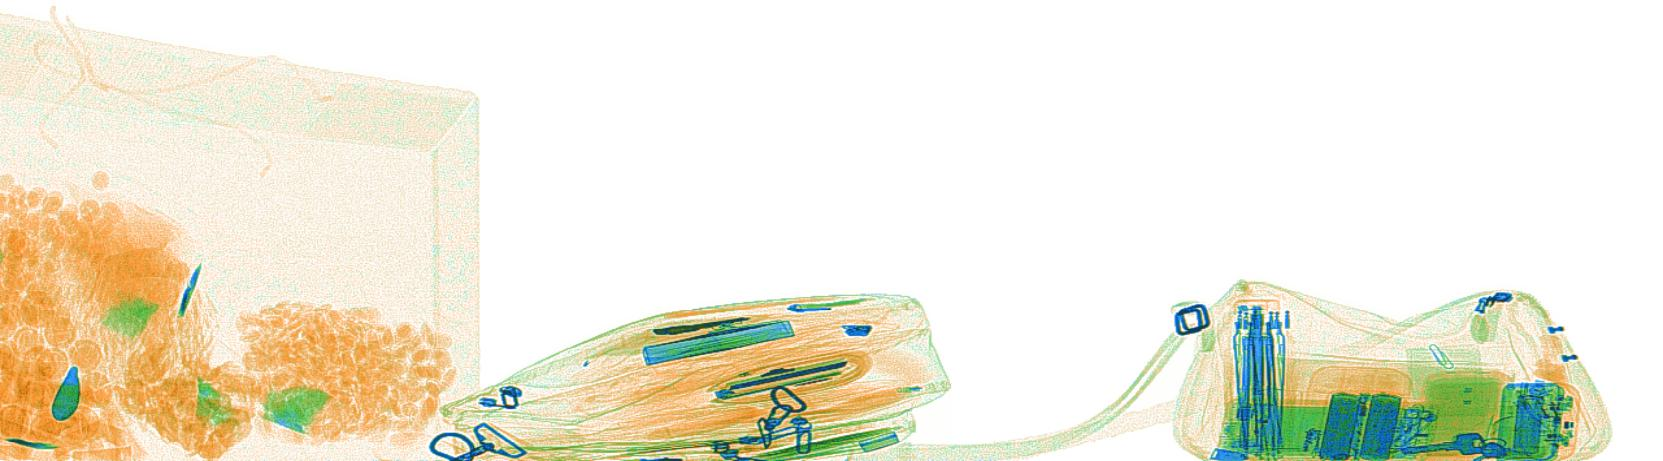battery: (1312, 389, 1401, 456), (1509, 393, 1545, 456)
